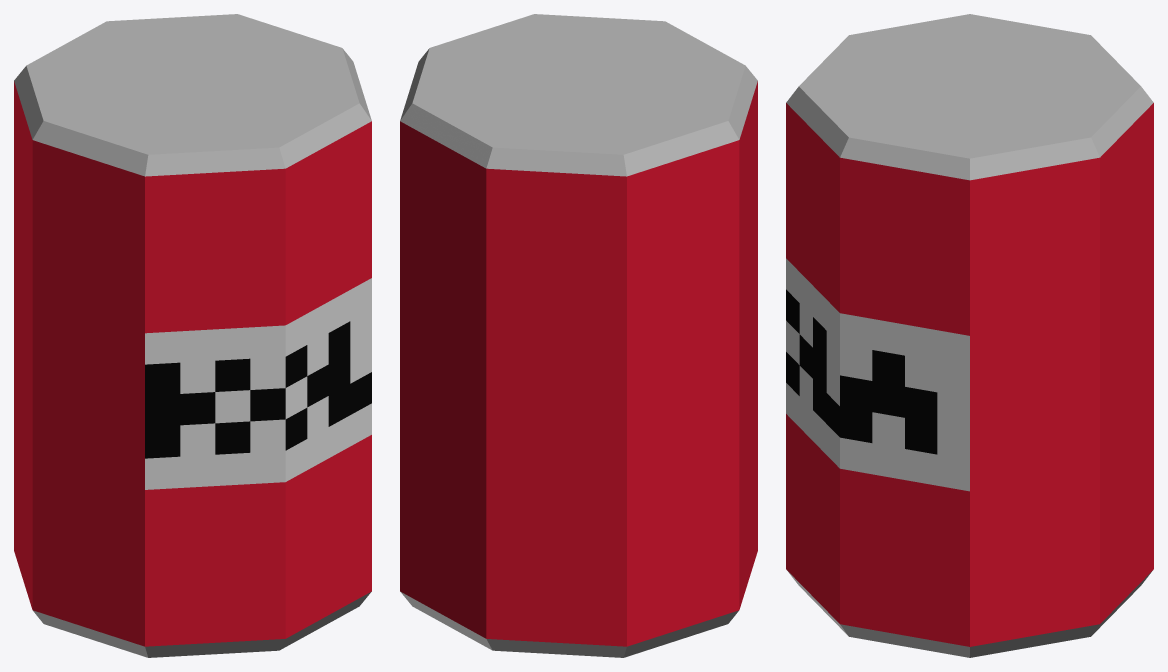
Rendered from kokaloka.fbx.
3 renders of one model, left to right at view 1: azimuth 30°, elevation 25°; view 2: azimuth 150°, elevation 25°; view 3: azimuth 270°, elevation 25°, orthographic.
Parts seen in each view (by area): view 1: Cylinder.005; view 2: Cylinder.005; view 3: Cylinder.005.
Part boxes in pixels (box(x1,y1,x2,y2)): Cylinder.005: box(14, 14, 371, 657); Cylinder.005: box(400, 14, 757, 657); Cylinder.005: box(786, 14, 1153, 657).
Bounding box in the file's own units: 143 × 214 × 143.
